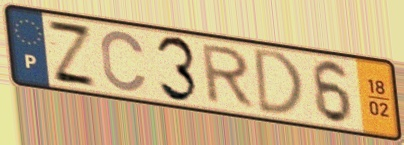3: (150, 33, 201, 105)
6: (309, 58, 356, 127)
C: (98, 29, 150, 95)
D: (252, 45, 307, 118)
R: (200, 42, 258, 111)
Z: (44, 17, 100, 90)
